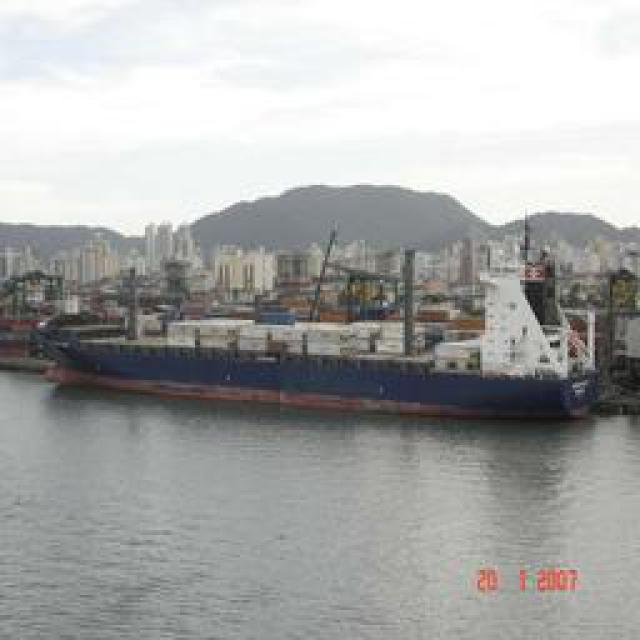Ship: (48, 305, 596, 420)
